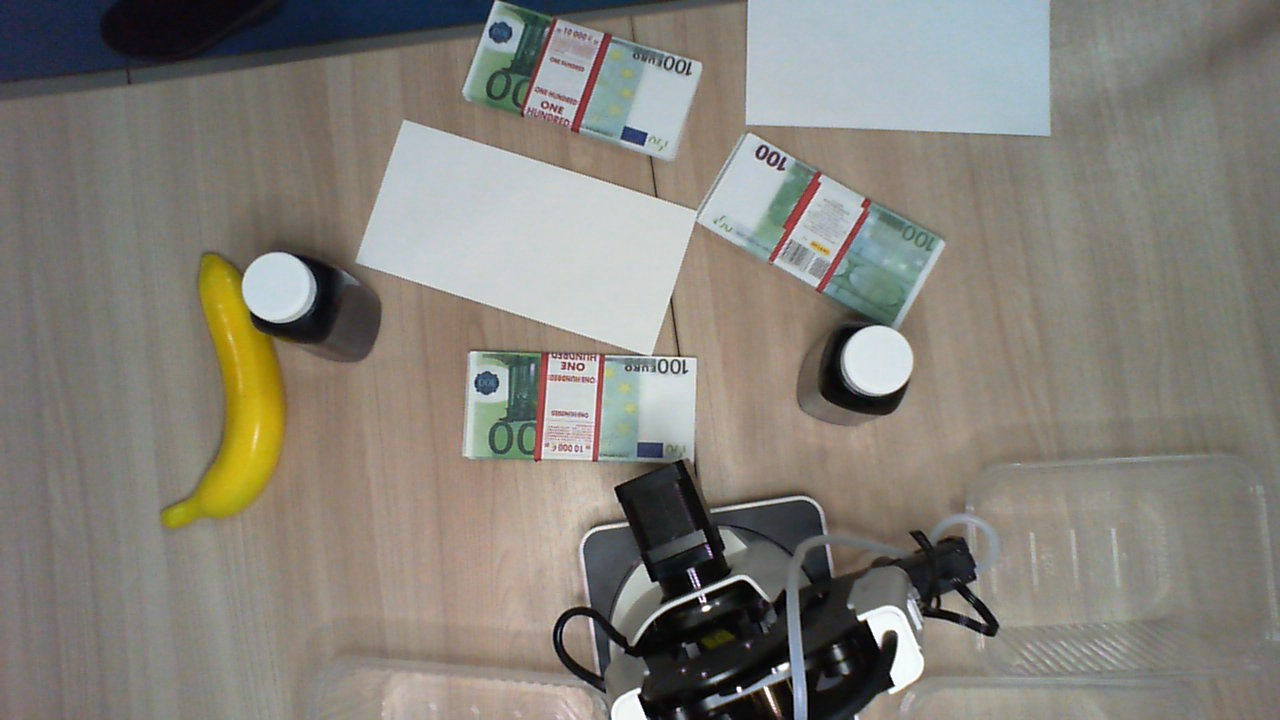banana: (160, 250, 290, 532)
bottle: (820, 323, 916, 410), (248, 247, 331, 340)
convert: (355, 119, 696, 355), (743, 1, 1050, 135)
money: (693, 133, 943, 327), (463, 1, 705, 161), (462, 353, 696, 461)
